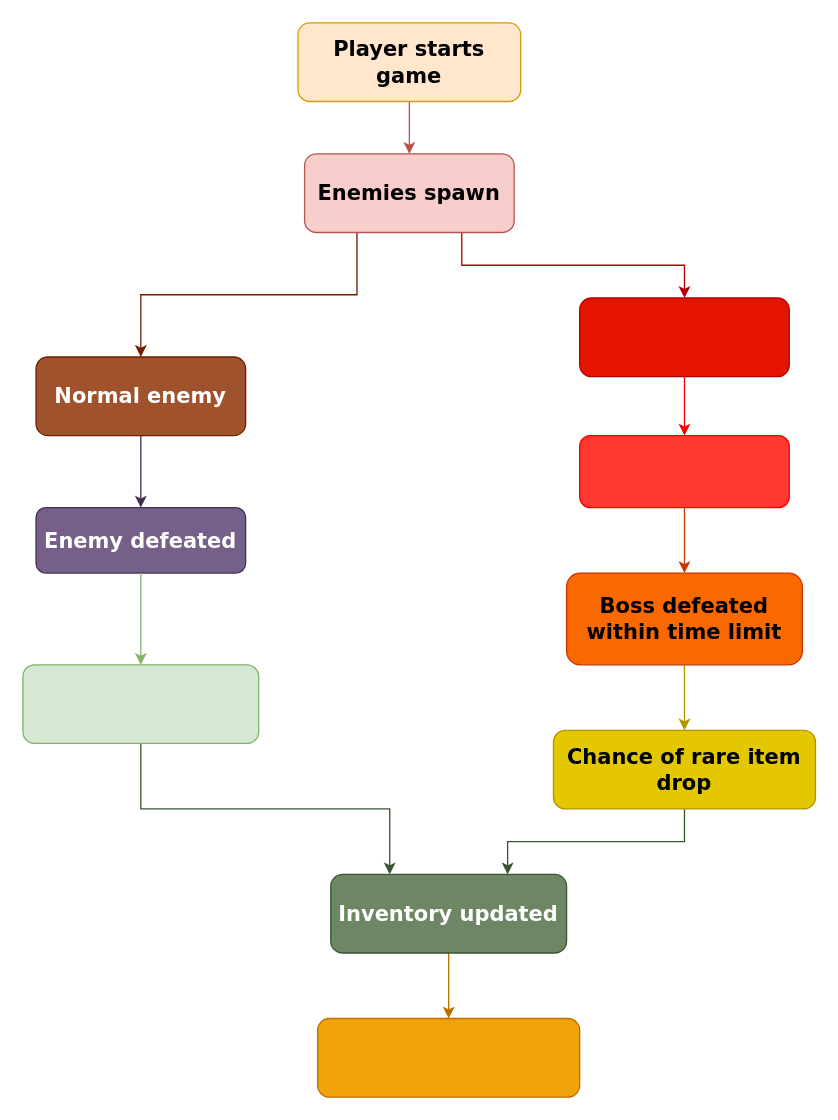
This 838x1120 diagram has some shape labels left out. Each missing label, with the box of its shape:
Boss fight: (578, 434, 789, 508)
Boss spawn (periodic): (578, 297, 789, 377)
Item / currency drop: (22, 664, 259, 743)
Player can trade item in Auction: (316, 1017, 580, 1097)
